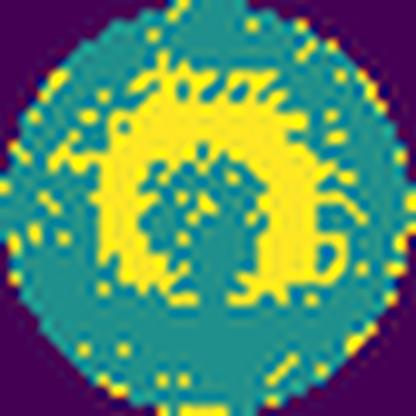Donut: (87, 55, 347, 316)
